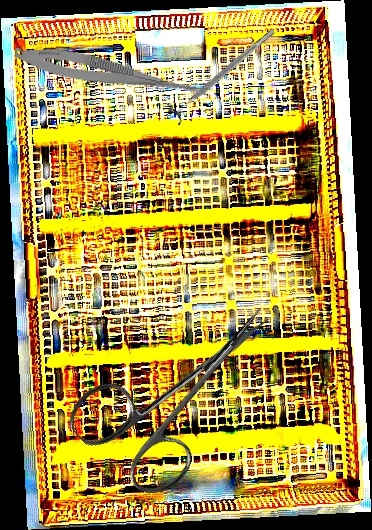Fixation Ring: (165, 22, 281, 127)
Iris Scissors: (60, 264, 308, 511)
Micro Scissor: (12, 40, 216, 104)
